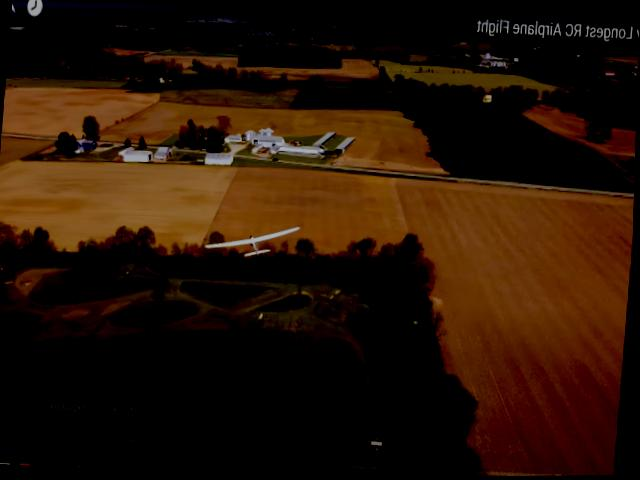plane: (205, 222, 302, 261)
